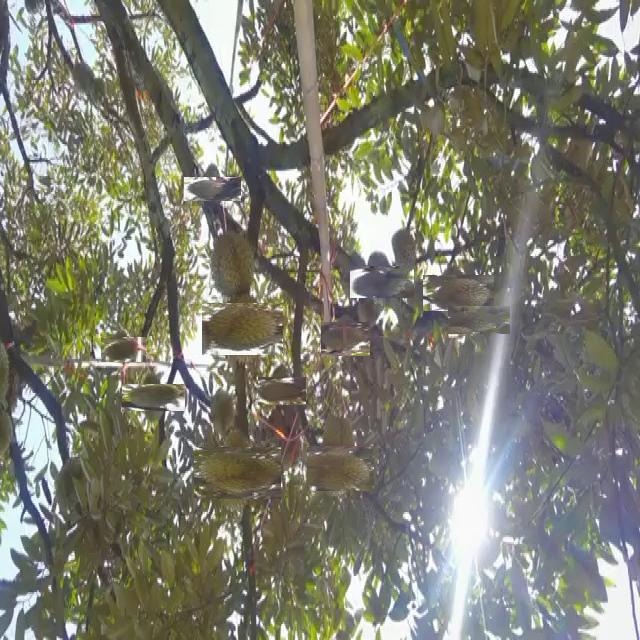durian: (202, 438, 272, 508), (209, 295, 276, 363), (208, 233, 256, 301), (312, 440, 369, 496), (431, 266, 485, 320), (358, 257, 407, 306), (131, 375, 177, 420), (456, 297, 502, 342), (324, 318, 366, 360), (192, 169, 233, 209), (390, 227, 420, 277), (263, 371, 301, 410), (106, 331, 141, 367)
